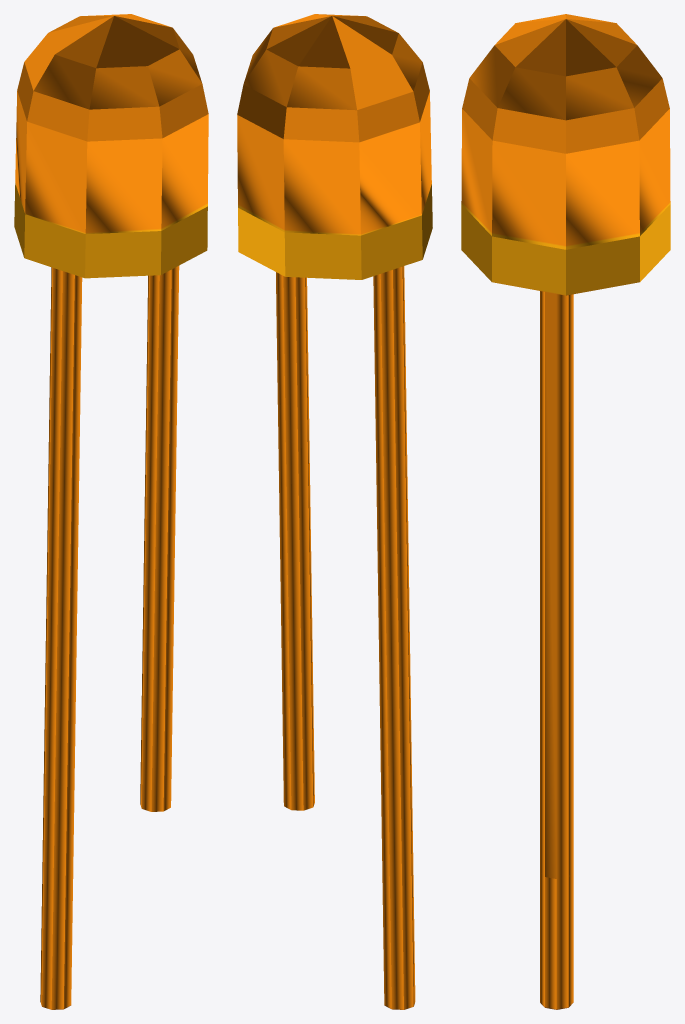
The model's file is LED.fbx.
3 renders of one model, left to right at view 1: azimuth 30°, elevation 25°; view 2: azimuth 150°, elevation 25°; view 3: azimuth 270°, elevation 25°, orthographic. The views are drawn at different scales.
Visible parts, largest first — view 1: charges; view 2: charges; view 3: charges.
Part boxes in pixels (box(x1,y1,x2,y2)): charges: box(14, 14, 208, 1009); charges: box(237, 14, 432, 1009); charges: box(461, 14, 670, 1009).
Bounding box in the file's own units: 4.69 × 24.9 × 4.66.
Materials: 1 (1 with a texture image).
